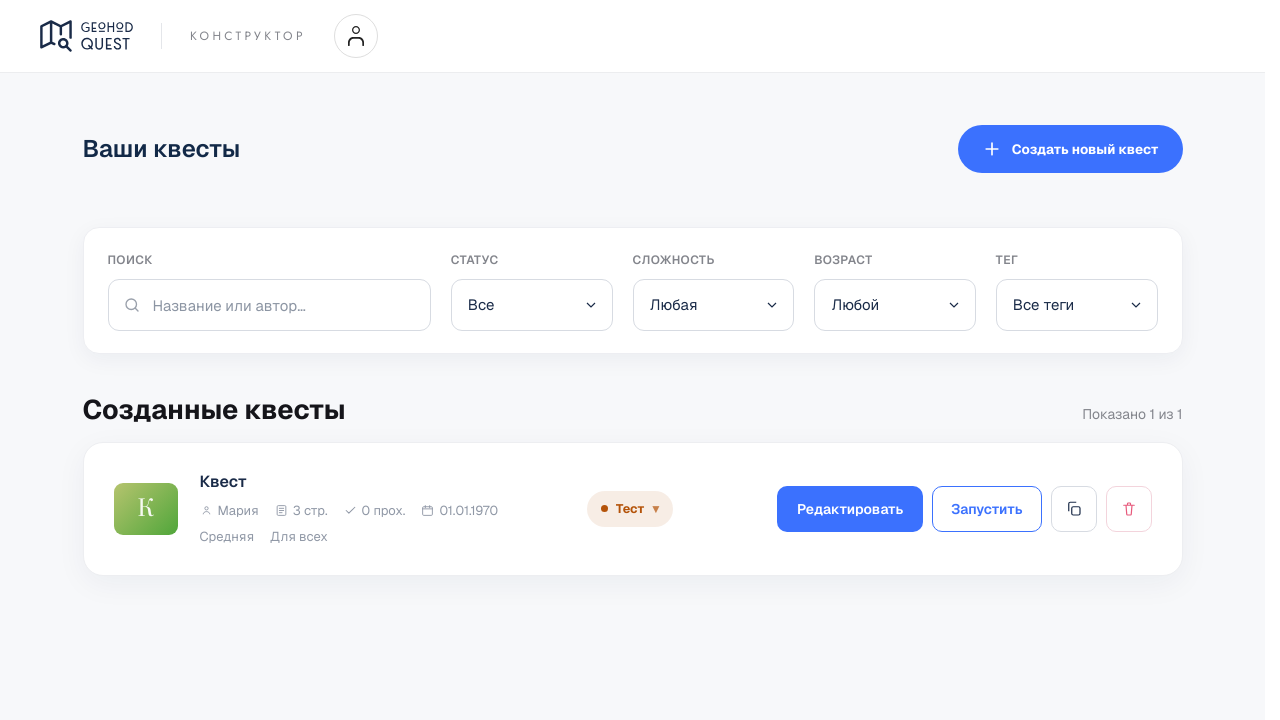
dashboard: deleting a quest › warns even when the quest was already moved off the store — its listing still goes
Click the button titled "Удалить" at [1128, 509], box [1106,486,1152,532]
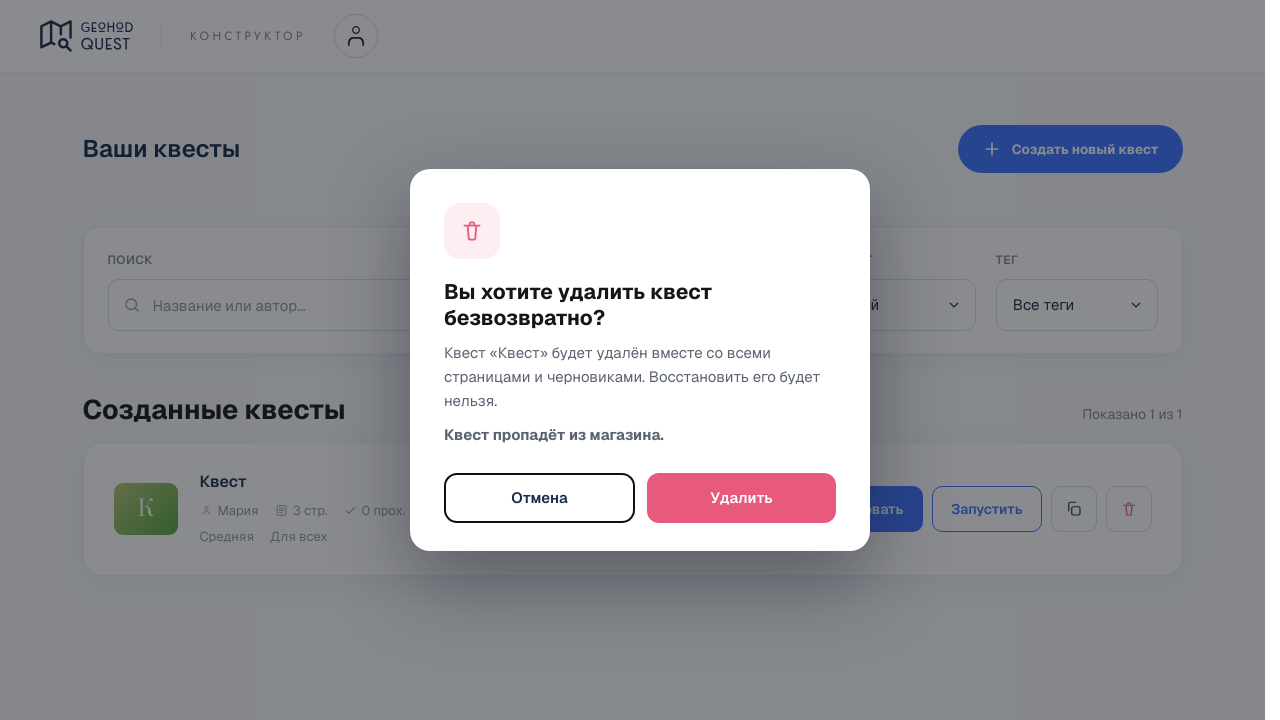
Result: the text "Квест пропадёт из магазина." is shown at [444,425,664,444]
